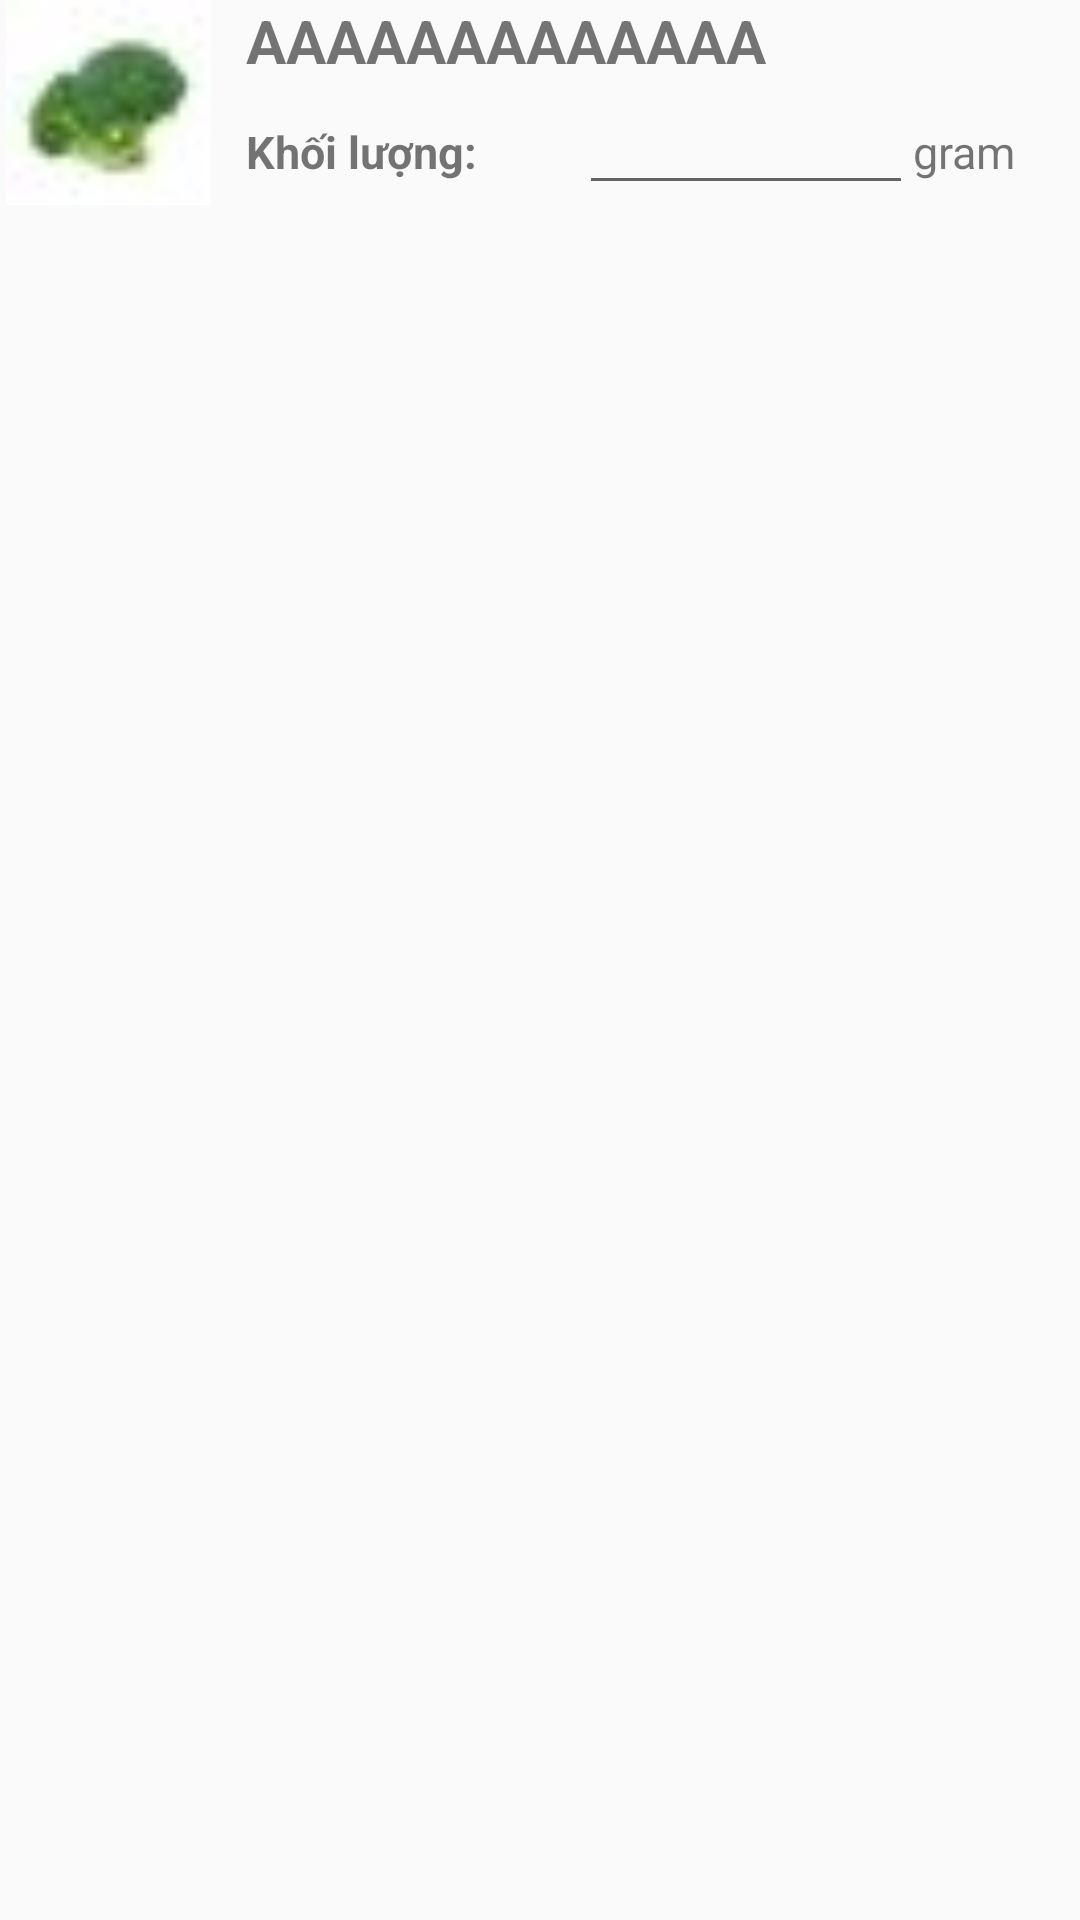

Where to tap for icons on this 1080 × 1920 app screen, as (x,y):
ingre bongcai: (107,107)
